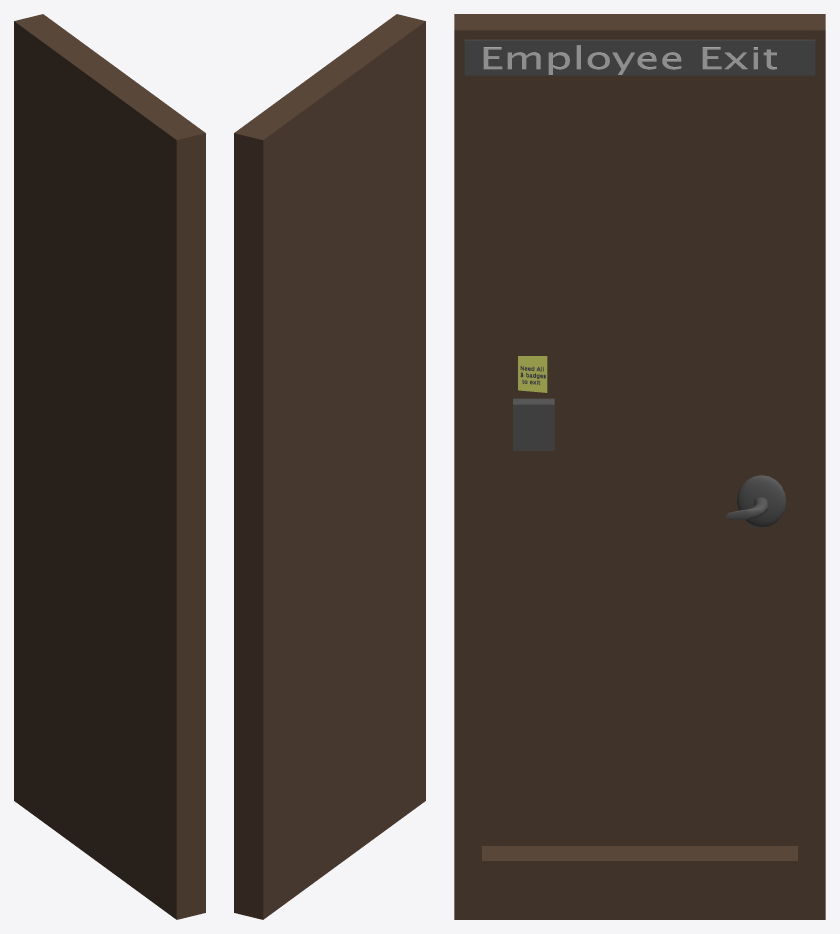
The model's file is Door 1.fbx.
The picture shows the model from 3 angles, left to right: view 1: azimuth 30°, elevation 25°; view 2: azimuth 150°, elevation 25°; view 3: azimuth 270°, elevation 25°; orthographic projection. The views are drawn at different scales.
Parts seen in each view (by area): view 1: polySurface3; view 2: polySurface3; view 3: polySurface3.
Part boxes in pixels (bbox=[...]): polySurface3: bbox=[14, 14, 205, 919]; polySurface3: bbox=[234, 14, 425, 919]; polySurface3: bbox=[454, 14, 825, 919].
Size of the model in its own units: 0.0496 by 1 by 0.3783.
